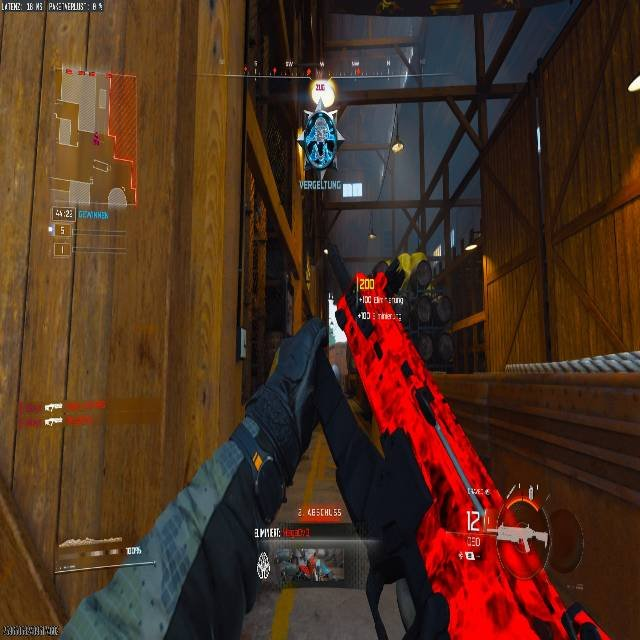head: (312, 93, 329, 110)
player: (299, 96, 337, 177)
